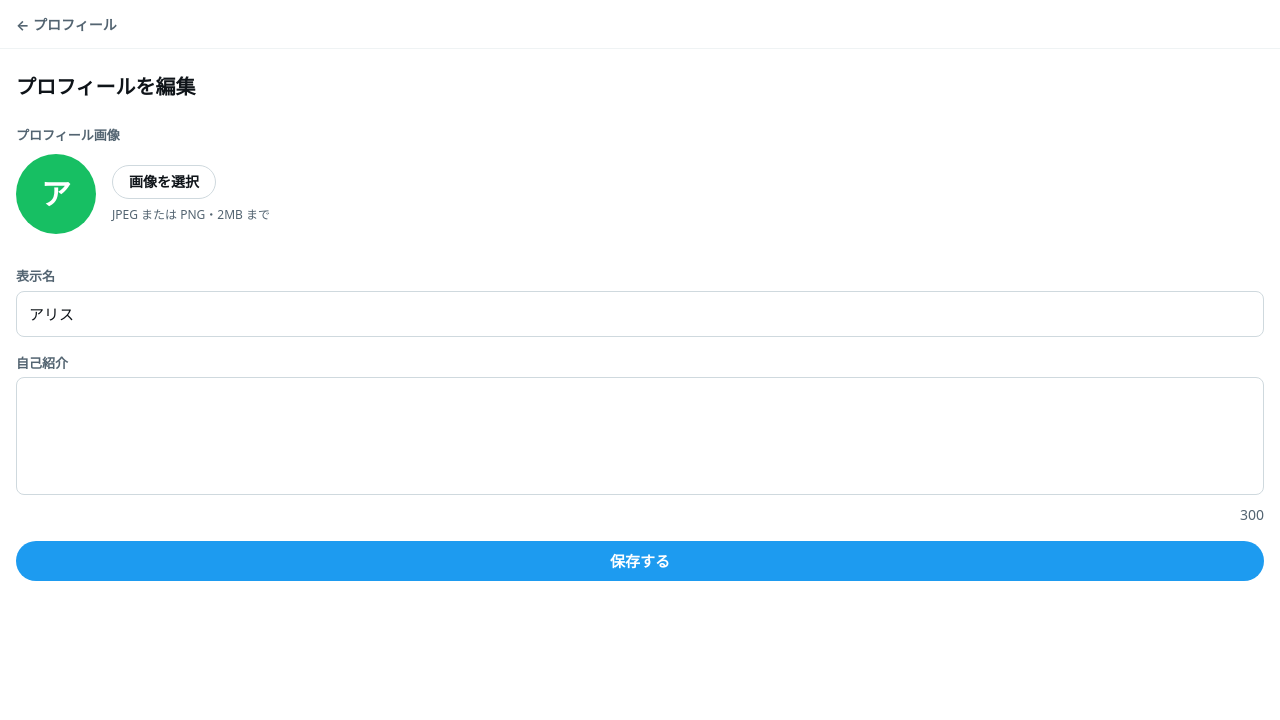
Test: ProfileEditPage › 同値分割（項目エラー）: fieldErrors を各項目の下に出し、遷移しない
This screenshot has width=1280, height=720.
Click the button "保存する" at (640, 561), box [16,541,1264,581]
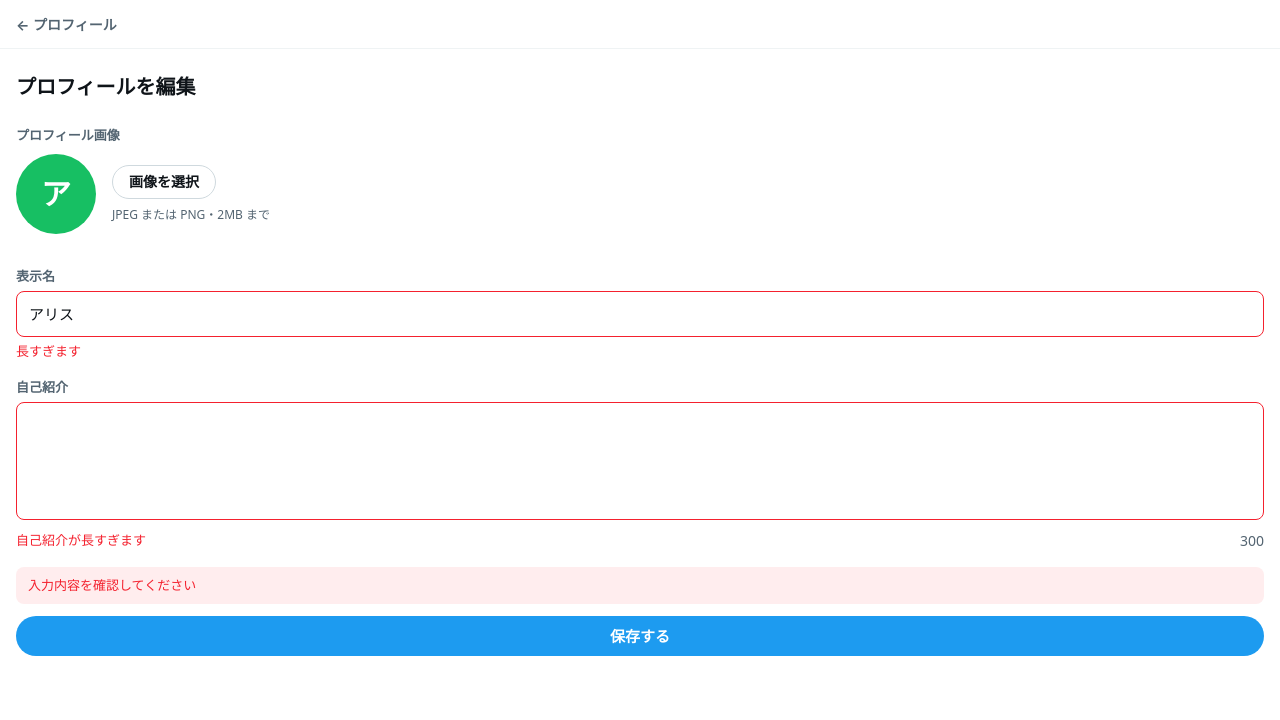
Expected: the text "長すぎます" is shown, [16,342,81,360]
